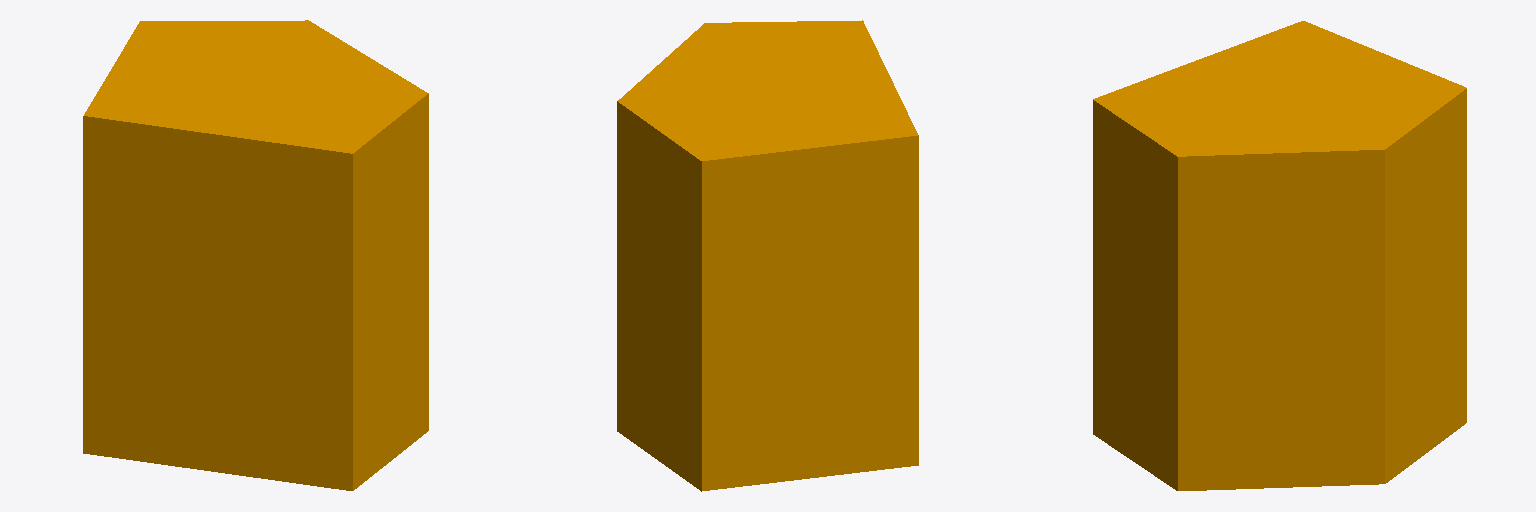
URDF robot description (object):
<?xml version="1.0"?>
<robot name="object">
  <link name="object">
    <visual>
      <origin xyz="0 0 0"/>
      <geometry>
        <mesh filename="meshes/generated/col_046.obj" scale="0.03 0.03 0.03"/>
      </geometry>
    </visual>
    <collision>
      <origin xyz="0 0 0"/>
      <geometry>
        <mesh filename="meshes/generated/col_046.obj" scale="0.03 0.03 0.03"/>
      </geometry>
    </collision>
    <inertial>
      <density value="1000.0"/>
    </inertial>
  </link>
</robot>

--- Facts derived from the render (not from the file) ---
The picture shows the robot from 3 angles, left to right: view 1: azimuth 30°, elevation 25°; view 2: azimuth 150°, elevation 25°; view 3: azimuth 270°, elevation 25°; orthographic projection.
Model object with 1 links and 0 joints (none), rooted at object, posed every joint at zero.
Visible links, largest first — view 1: object; view 2: object; view 3: object.
Boxes of the visible links, x1=… form: object: x1=83, y1=20, x2=428, y2=490; object: x1=617, y1=20, x2=918, y2=491; object: x1=1093, y1=21, x2=1466, y2=490.
Bounding box of the posed robot: 0.0524 × 0.0609 × 0.06 m (x, y, z).
Meshes: 1 distinct files referenced, 1 mesh visuals loaded (1 OBJ).
